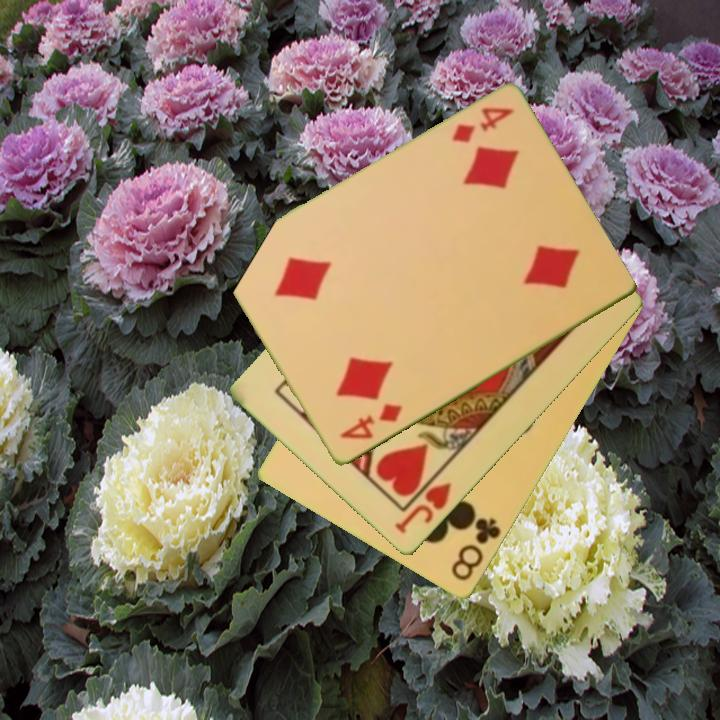4d: (336, 400, 405, 443), (448, 104, 516, 147)
8c: (447, 515, 504, 585)
Jh: (391, 479, 455, 538)
